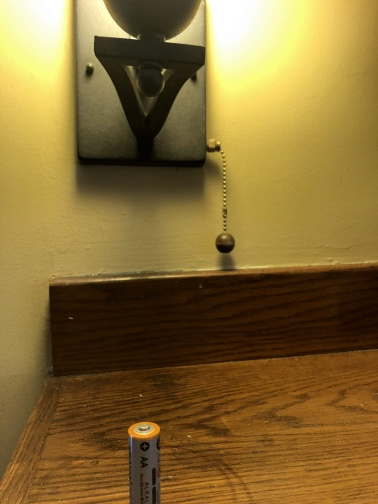battery: (124, 419, 164, 504)
